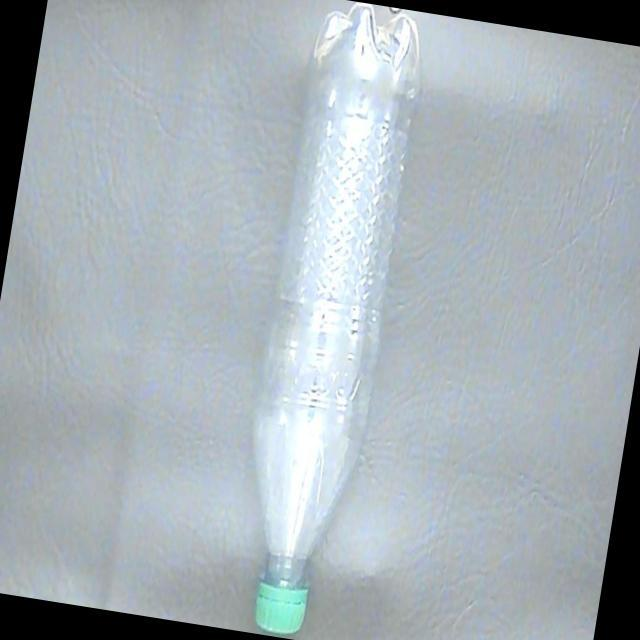good: (217, 0, 438, 638)
